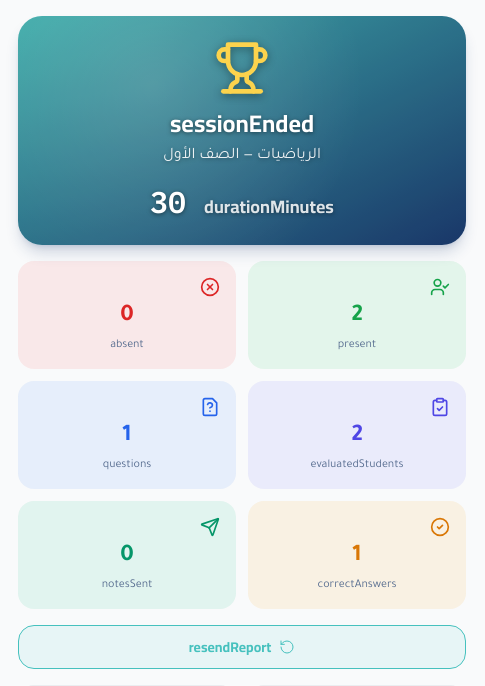
Test: SessionSummary — IT parent-report delivery UX › resend after a parent is linked succeeds and clears the resend affordance
Click the button "resendReport" at {"x": 242, "y": 647}, box [18,625,466,669]
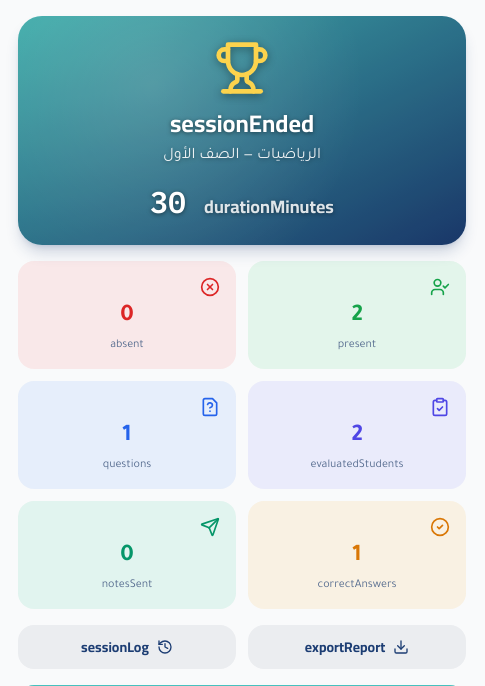
Expected: the button "resendReport" is gone
